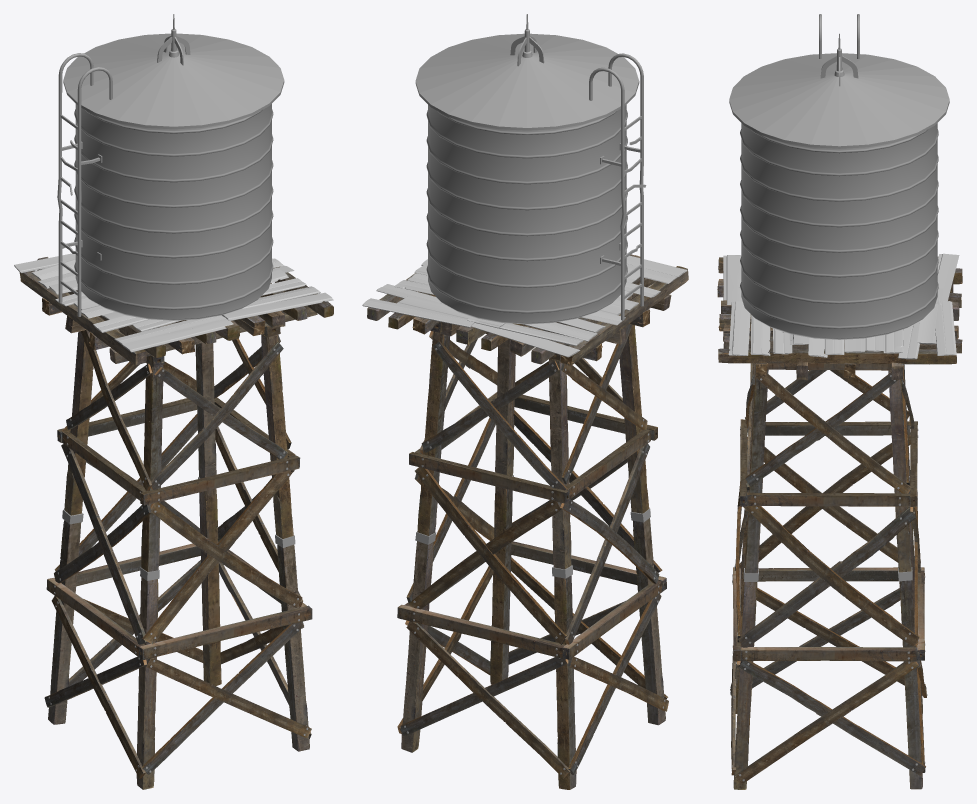
File: MOD_Watertower.fbx
The picture shows the model from 3 angles, left to right: view 1: azimuth 30°, elevation 25°; view 2: azimuth 150°, elevation 25°; view 3: azimuth 270°, elevation 25°; orthographic projection.
Parts seen in each view (by area): view 1: polySurface134; view 2: polySurface134; view 3: polySurface134.
Boxes of the visible parts, left/top/right/bottom form: polySurface134: left=14, top=14, right=333, bottom=789; polySurface134: left=362, top=14, right=688, bottom=789; polySurface134: left=717, top=14, right=962, bottom=789.
Bounding box in the file's own units: 371 × 1155 × 358.
